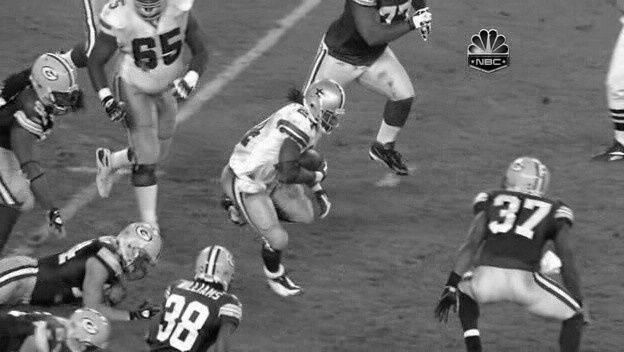person: (309, 81, 345, 130), (308, 81, 344, 130), (310, 81, 346, 130), (309, 80, 345, 129), (309, 82, 345, 131)
target_negative: (142, 172, 299, 272), (267, 78, 326, 305), (138, 268, 250, 280), (247, 304, 276, 350), (74, 247, 185, 254), (504, 337, 546, 347)
